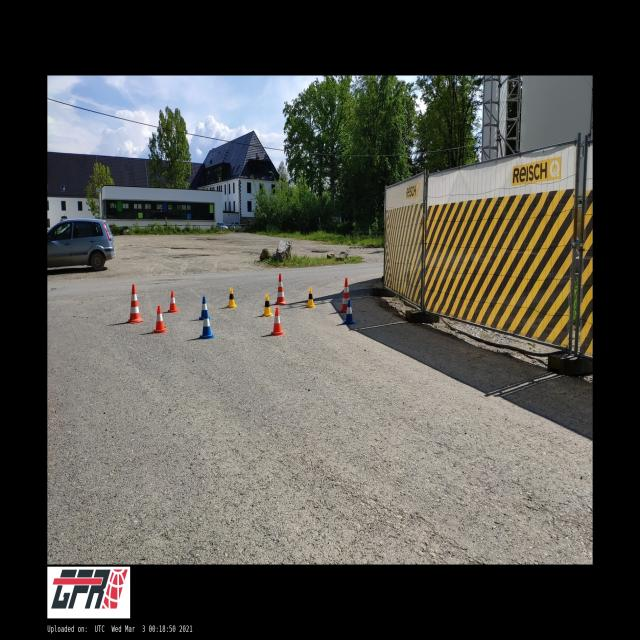blue_cone: (199, 310, 215, 339), (342, 300, 356, 324), (198, 296, 210, 320)
large_orange_cone: (127, 284, 144, 323), (339, 278, 351, 313), (275, 274, 286, 305)
orange_cone: (271, 307, 284, 336), (153, 306, 167, 332), (168, 290, 178, 312)
yellow_cone: (262, 294, 273, 316), (227, 287, 237, 308), (307, 288, 315, 308)
